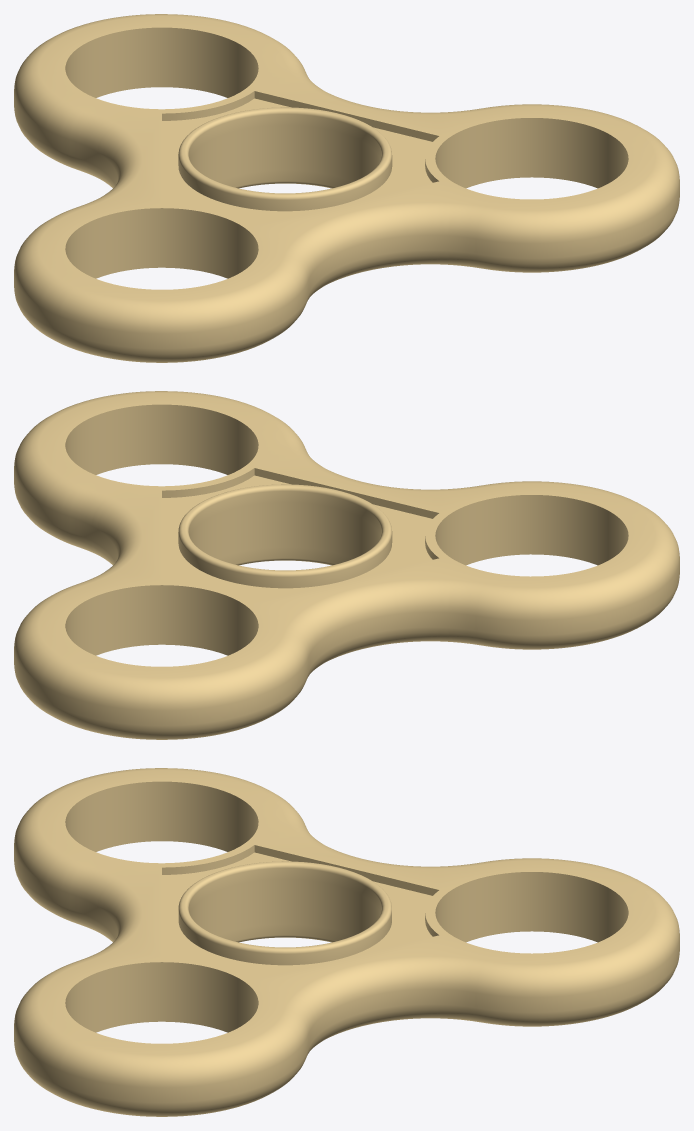
3 renders of one model, top to bottom at view 1: azimuth 30°, elevation 25°; view 2: azimuth 150°, elevation 25°; view 3: azimuth 270°, elevation 25°, orthographic.
Parts seen in each view (by area): view 1: Object_2; view 2: Object_2; view 3: Object_2.
Boxes of the visible parts, left/top/right/bottom form: Object_2: left=14, top=14, right=679, bottom=362; Object_2: left=14, top=391, right=679, bottom=739; Object_2: left=14, top=768, right=679, bottom=1116.
Size of the model in its own units: 1 by 0.1137 by 0.9209.
